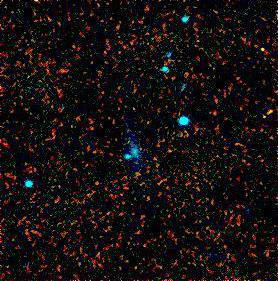star: (107, 141, 137, 171)
